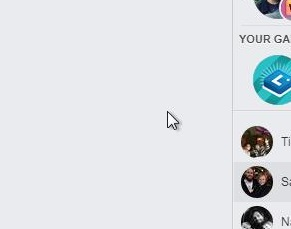cursor: (166, 109, 179, 130)
